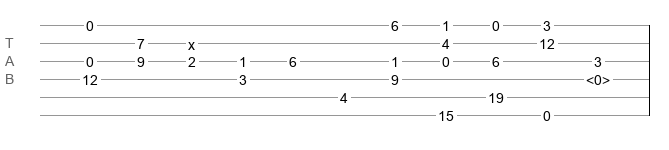0: (86, 54, 94, 64), (86, 18, 94, 28), (442, 54, 450, 64), (492, 18, 500, 28), (543, 108, 551, 118)
1: (239, 54, 247, 64), (391, 54, 399, 64), (442, 18, 450, 28)
12: (82, 72, 98, 82), (539, 36, 555, 46)
15: (438, 108, 454, 118)
19: (488, 90, 504, 100)
2: (188, 54, 196, 64)
3: (239, 72, 247, 82), (543, 18, 551, 28), (594, 54, 602, 64)
4: (340, 90, 348, 100), (442, 36, 450, 46)
6: (289, 54, 297, 64), (391, 18, 399, 28), (492, 54, 500, 64)
7: (137, 36, 145, 46)
9: (137, 54, 145, 64), (391, 72, 399, 82)
harmonic: (586, 72, 610, 82)
x: (188, 37, 195, 45)
